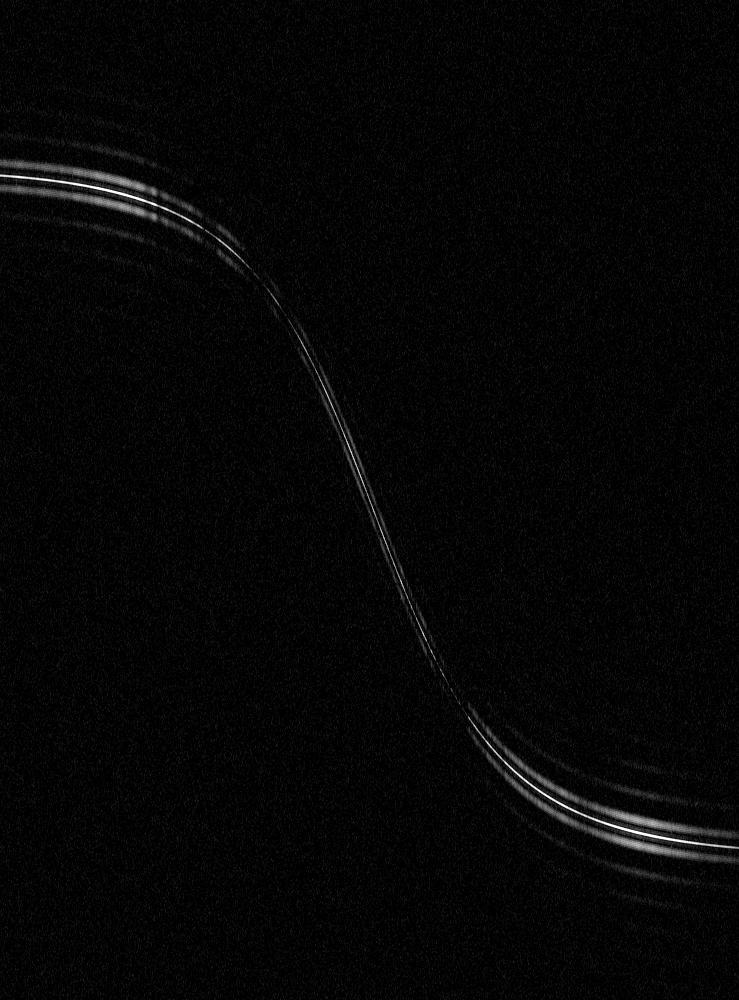signal: (0, 0, 738, 999)
